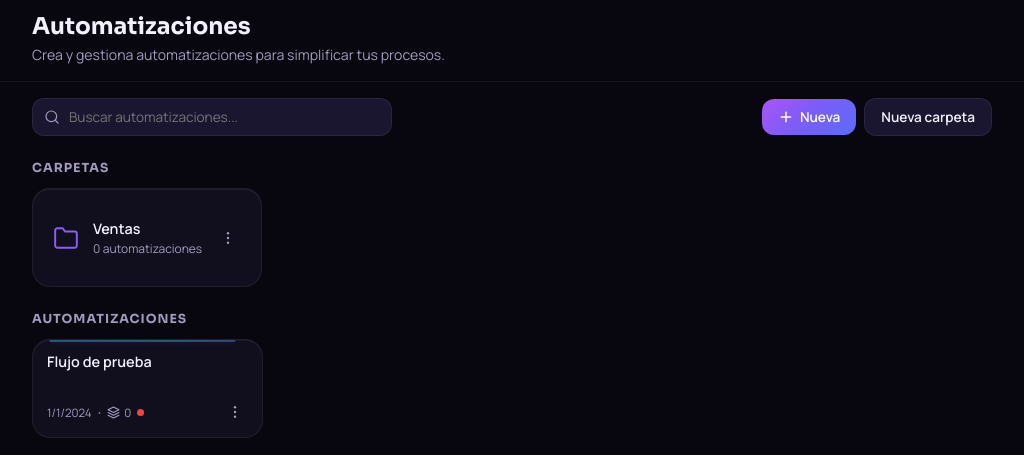
Test: cada carpeta tiene su menú de acciones › pulsar la tarjeta fuera del menú sí abre la carpeta
The image size is (1024, 455).
Check: the text "Ventas" is shown, box [93,219,140,238]
Step 1. Click the button "Ventas 0 automatizaciones" → [147, 238], box [32,188,262,287]
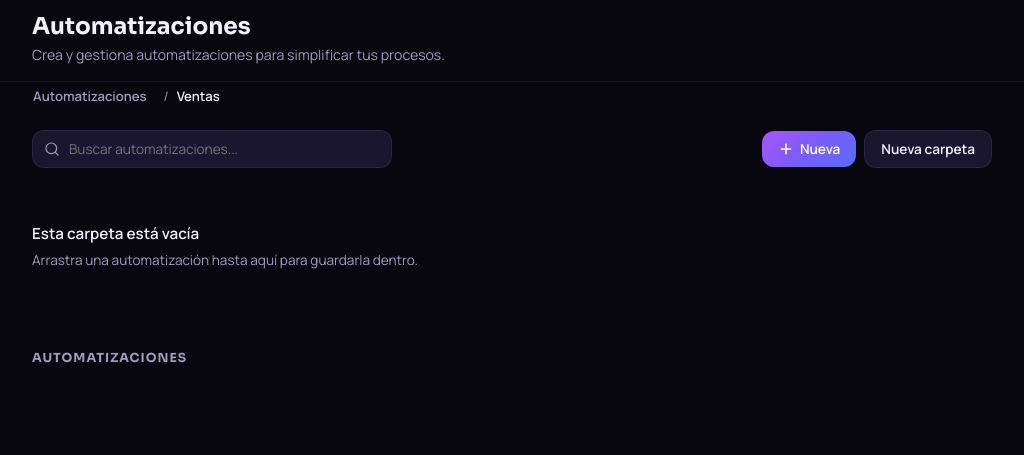
Check: the navigation bar named "Ubicación" shows "Ventas", box [177,87,220,105]
